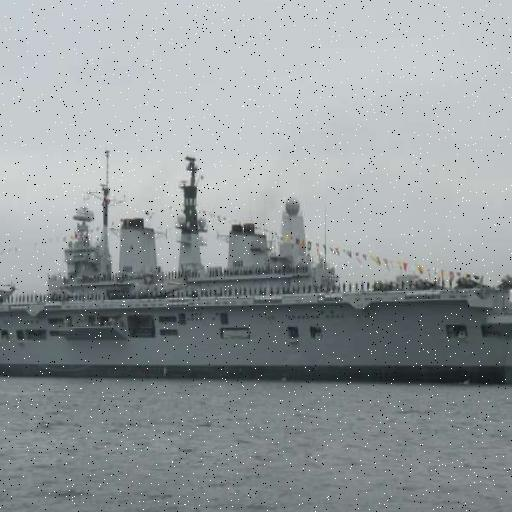Portanaves: (1, 145, 512, 391)
